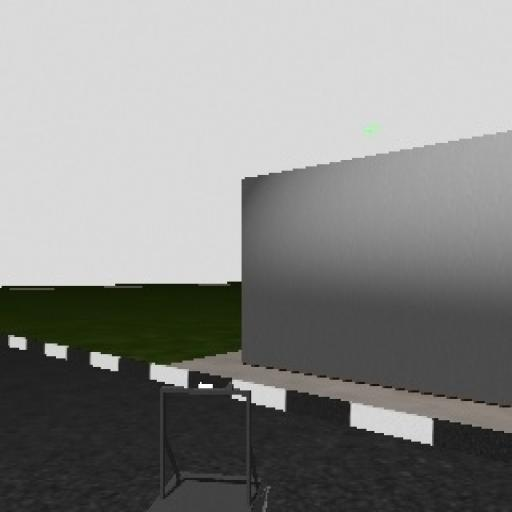huskya200: (126, 378, 279, 512)
